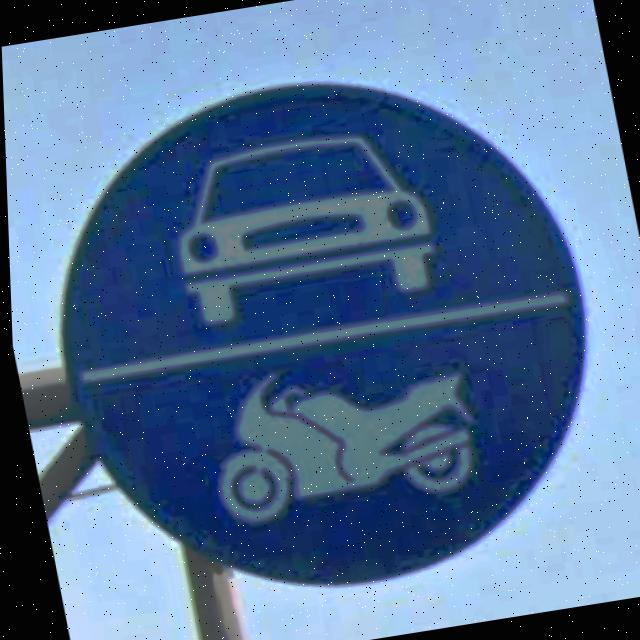carmotorcycle: (60, 85, 582, 584)
